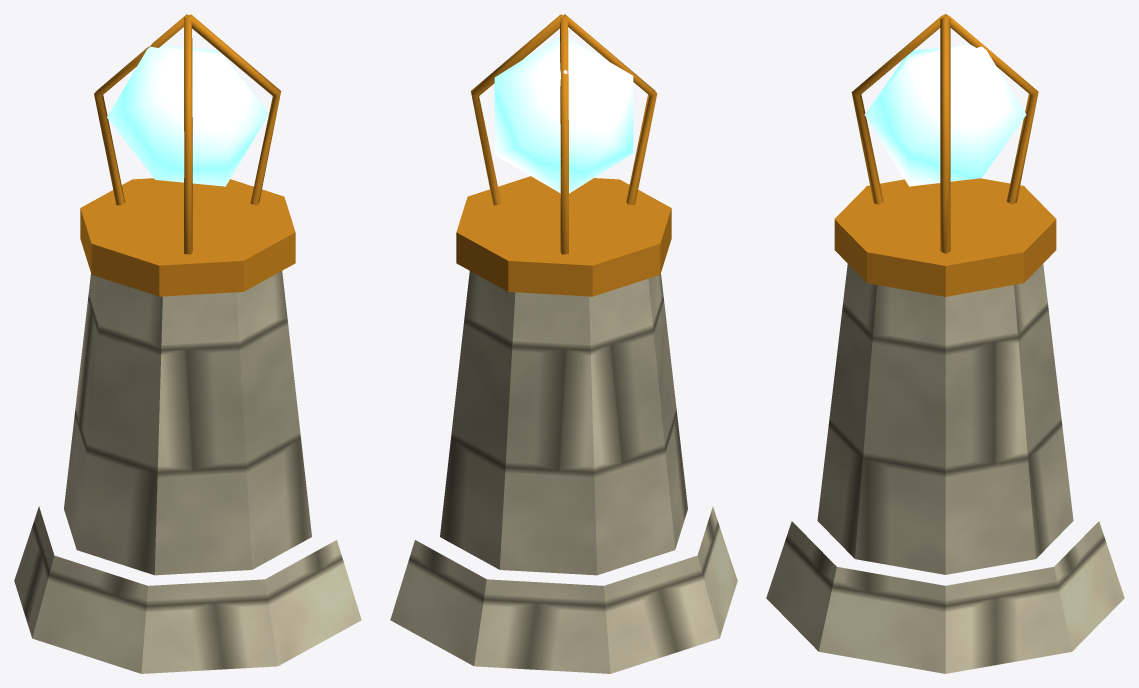
The model's file is waymark_cloud.glb.
3 views of the same model, side by side, from view 1: azimuth 30°, elevation 25°; view 2: azimuth 150°, elevation 25°; view 3: azimuth 270°, elevation 25° (orthographic).
Parts seen in each view (by area): view 1: waymark_cloud; view 2: waymark_cloud; view 3: waymark_cloud.
Part boxes in pixels (box(x1,y1,x2,y2)): waymark_cloud: box(14, 14, 361, 673); waymark_cloud: box(390, 14, 737, 673); waymark_cloud: box(766, 14, 1124, 673).
Bounding box in the file's own units: 0.84 × 1.51 × 0.84.
Materials: 3 (1 with a texture image).
